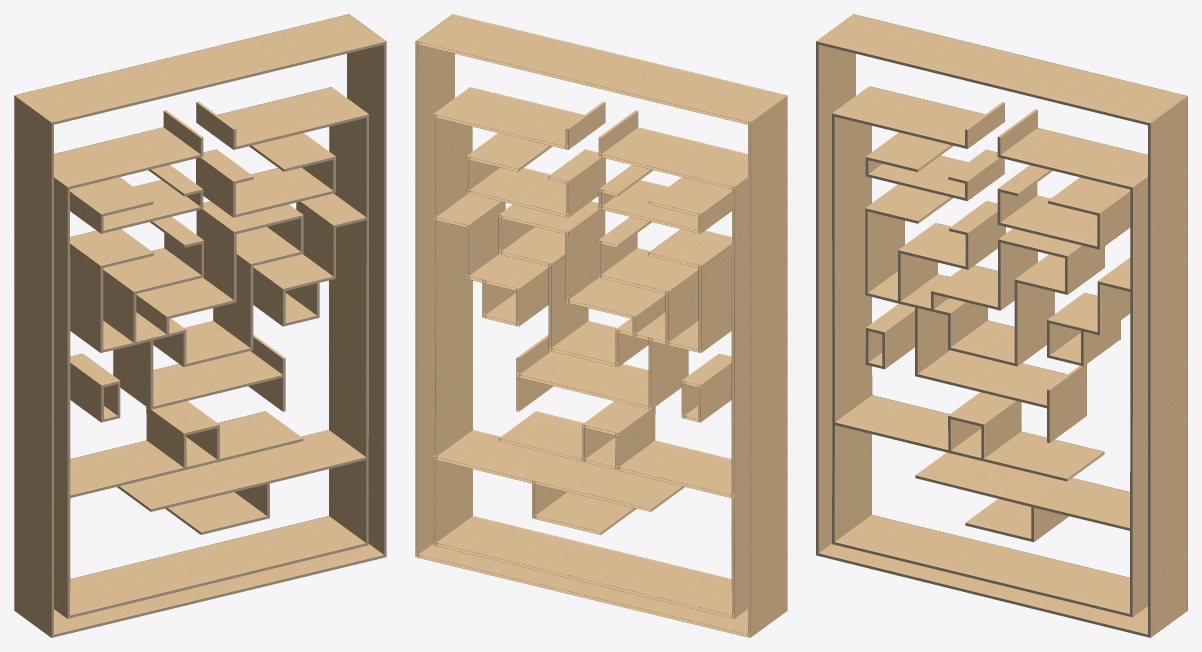
File: wall_1.obj
The picture shows the model from 3 angles, left to right: view 1: azimuth 30°, elevation 25°; view 2: azimuth 150°, elevation 25°; view 3: azimuth 330°, elevation 25°; orthographic projection.
Parts seen in each view (by area): view 1: walls; view 2: walls; view 3: walls.
Boxes of the visible parts, box(x1,y1,x2,y2) form: walls: box(14, 14, 386, 637); walls: box(415, 14, 787, 637); walls: box(816, 14, 1187, 637).
Bounding box in the file's own units: 12.96 × 19.06 × 2.5.
